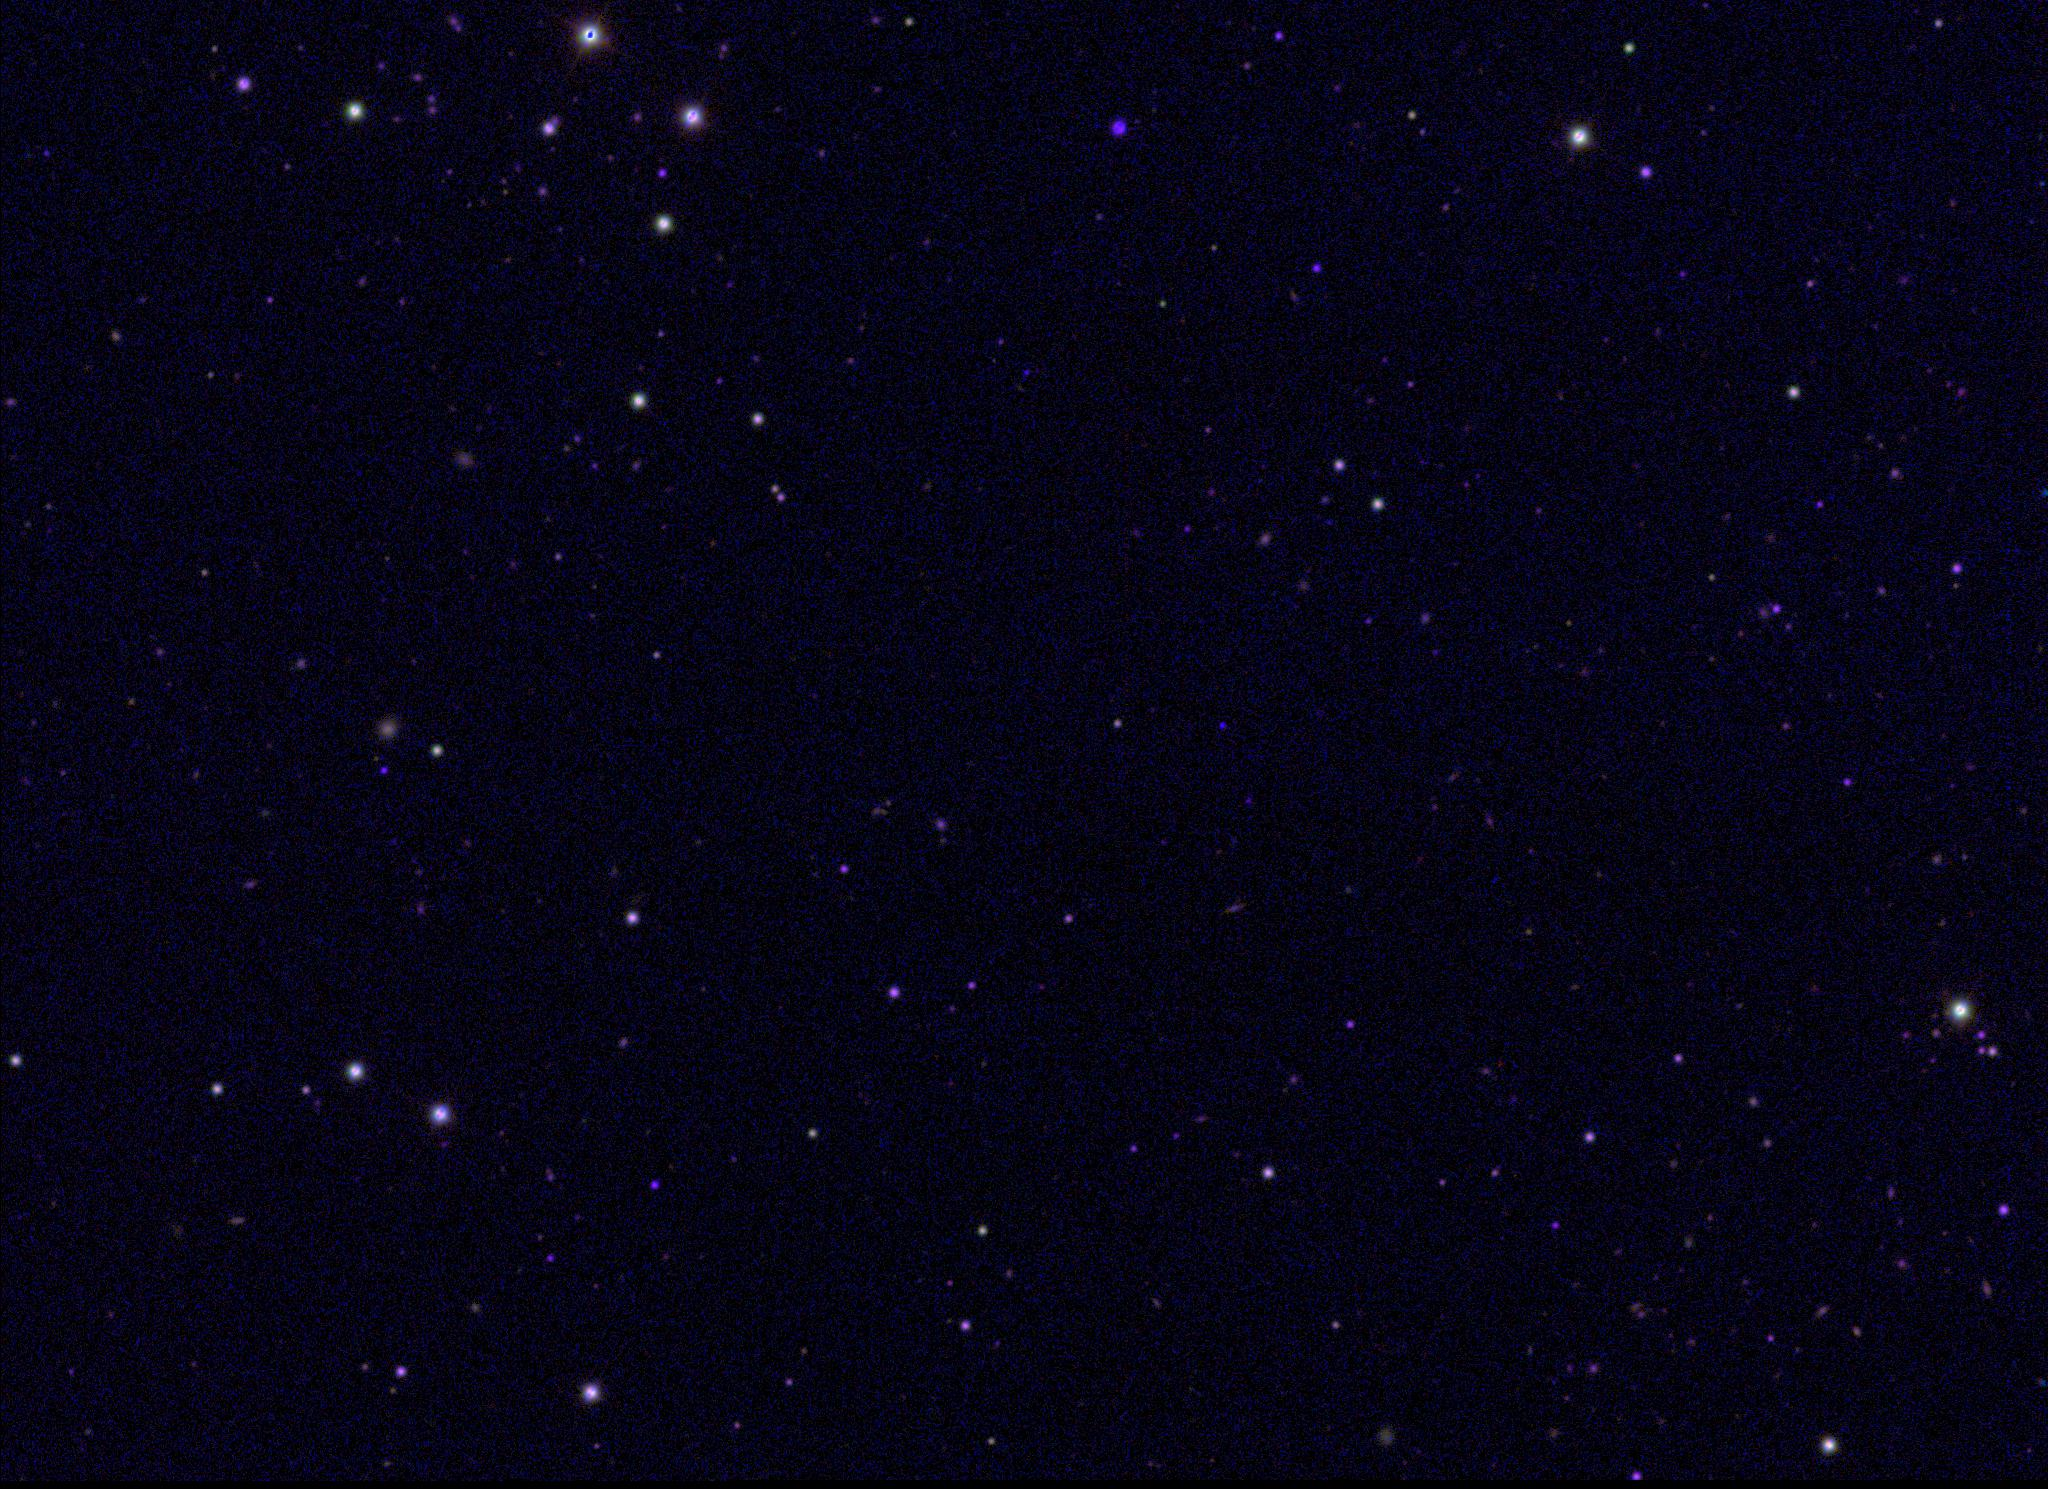L: (1216, 717, 1231, 732)
